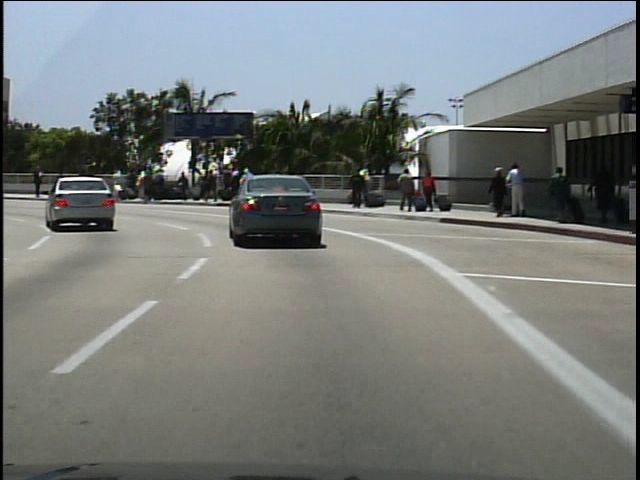person: (587, 160, 616, 225), (547, 165, 574, 227), (508, 162, 529, 219), (488, 167, 509, 222), (396, 167, 418, 215), (348, 169, 368, 211), (421, 169, 440, 213), (77, 167, 98, 196), (33, 164, 49, 199), (58, 168, 74, 198)
